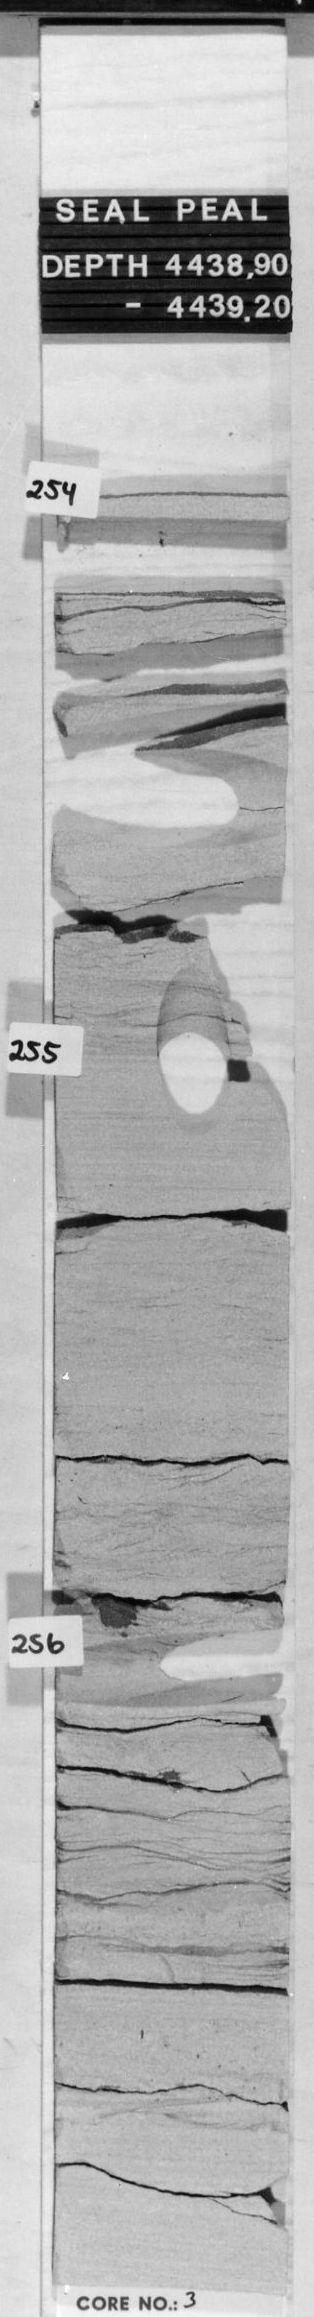hplug: (56, 502, 284, 607), (127, 1620, 277, 1721)
scal: (56, 748, 289, 864)
vplug: (144, 966, 253, 1136)
